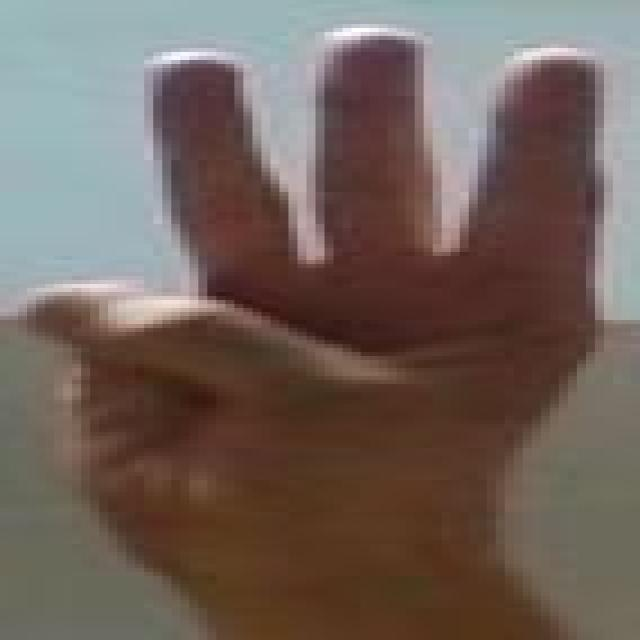W: (8, 16, 640, 608)
